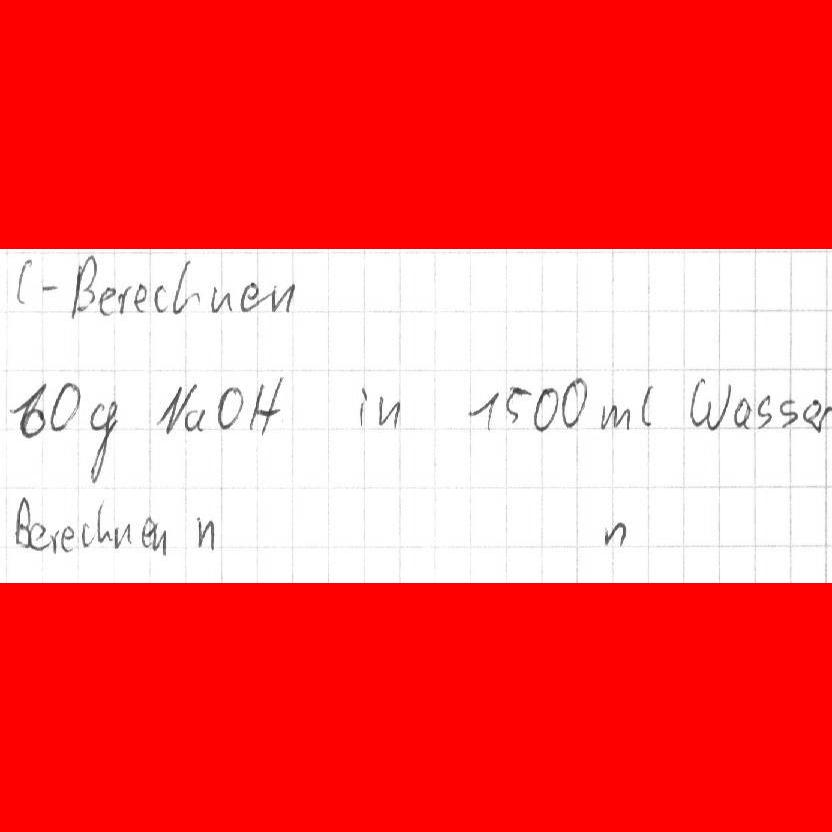Char: (85, 399, 118, 484), (247, 379, 286, 434), (690, 377, 727, 431), (9, 383, 46, 436), (156, 382, 192, 433), (48, 380, 82, 433), (69, 256, 97, 318), (559, 372, 587, 433), (170, 257, 198, 316), (216, 384, 244, 431), (468, 387, 498, 429), (532, 383, 557, 433), (12, 494, 32, 548), (504, 384, 529, 427), (13, 257, 34, 306), (265, 279, 294, 314), (599, 401, 629, 433), (375, 393, 400, 430), (141, 514, 164, 553), (193, 513, 215, 552), (95, 499, 112, 546), (601, 519, 627, 549), (210, 281, 234, 313), (778, 396, 800, 430), (639, 383, 655, 429), (755, 392, 773, 430), (732, 395, 751, 430), (803, 397, 823, 430), (239, 280, 260, 311), (181, 407, 205, 434), (28, 521, 49, 551), (97, 285, 115, 319), (132, 280, 149, 313), (358, 385, 371, 426), (115, 520, 133, 549), (59, 521, 76, 551), (152, 283, 169, 313), (42, 525, 59, 555), (38, 278, 59, 302), (116, 283, 130, 317), (816, 404, 832, 433), (80, 520, 94, 550)
